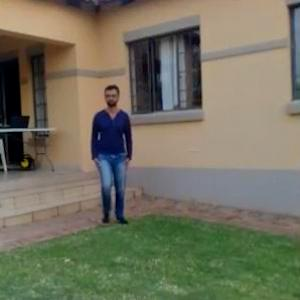follow: (89, 77, 135, 235)
